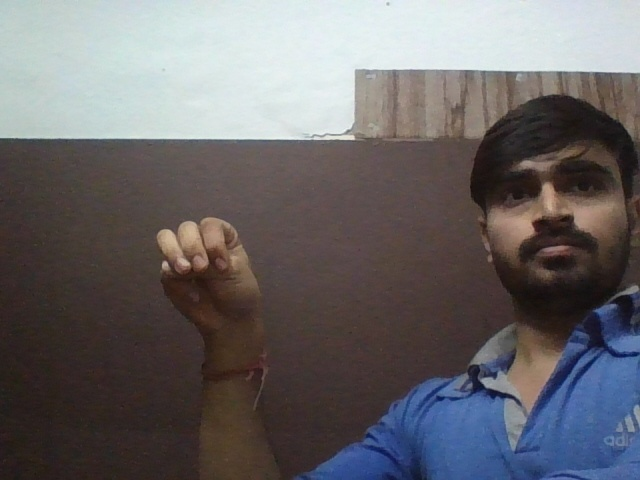M: (141, 202, 276, 336)
